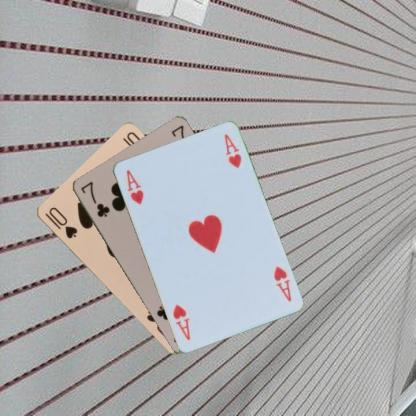10s: (42, 204, 79, 240)
7c: (77, 178, 111, 219)
Ah: (270, 263, 292, 303), (123, 167, 145, 206)
